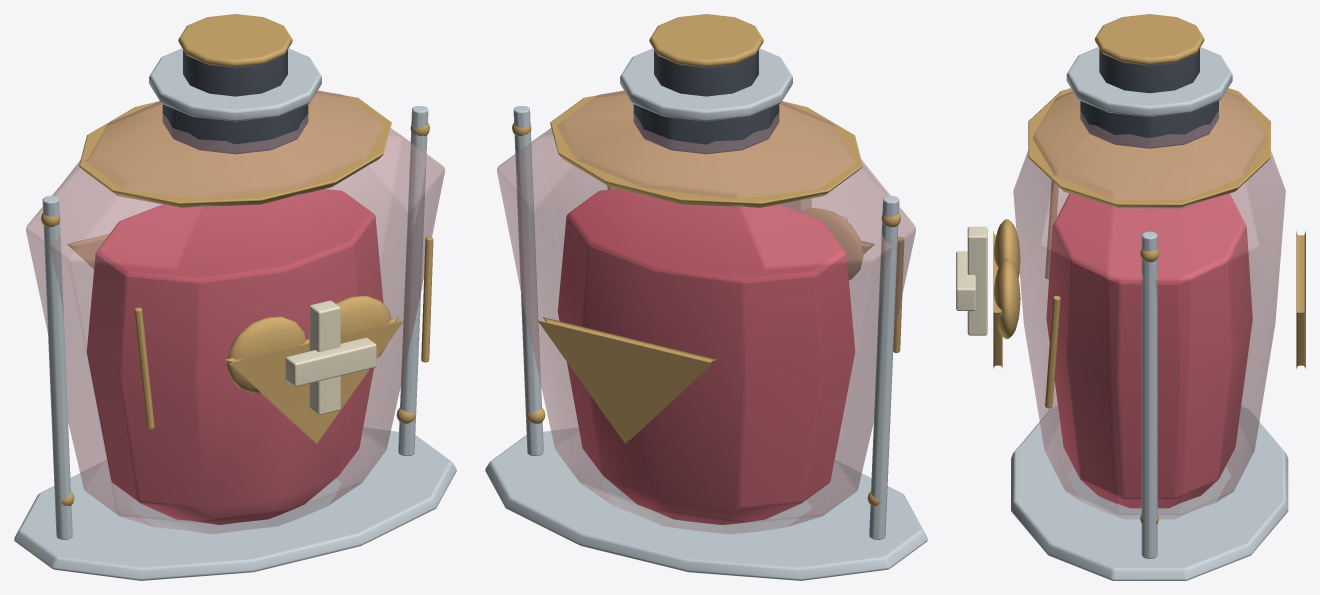
Rendered from SM_Flask_Life.fbx.
3 renders of one model, left to right at view 1: azimuth 30°, elevation 25°; view 2: azimuth 150°, elevation 25°; view 3: azimuth 270°, elevation 25°, orthographic. The views are drawn at different scales.
Parts seen in each view (by area): view 1: glass_CutVessel, liquid_ContainedEssence, metal_BaseRing, gold_ShoulderRim, liquid_Meniscus, metal_MouthLip, metal_CradleRail, metal_CradleRail.001, gold_HeartPoint_Front, gold_CapInset, dark_NeckSleeve, dark_SealedStopper (+7 smaller); view 2: glass_CutVessel, liquid_ContainedEssence, metal_BaseRing, gold_ShoulderRim, liquid_Meniscus, gold_HeartPoint_Back, metal_MouthLip, metal_CradleRail, metal_CradleRail.001, gold_CapInset, dark_NeckSleeve, dark_SealedStopper (+2 smaller); view 3: glass_CutVessel, liquid_ContainedEssence, metal_BaseRing, gold_ShoulderRim, liquid_Meniscus, metal_MouthLip, metal_CradleRail.001, gold_CapInset, dark_NeckSleeve, dark_SealedStopper, ivory_HealingCross, gold_HeartLobe.001 (+6 smaller).
Part boxes in pixels (bbox=[...]): glass_CutVessel: bbox=[26, 91, 444, 533]; liquid_ContainedEssence: bbox=[86, 213, 383, 524]; metal_BaseRing: bbox=[14, 427, 456, 580]; gold_ShoulderRim: bbox=[79, 90, 391, 207]; liquid_Meniscus: bbox=[97, 189, 373, 281]; metal_MouthLip: bbox=[149, 48, 321, 121]; metal_CradleRail: bbox=[42, 195, 72, 539]; metal_CradleRail.001: bbox=[398, 106, 428, 456]; gold_HeartPoint_Front: bbox=[225, 317, 403, 443]; gold_CapInset: bbox=[178, 14, 292, 67]; dark_NeckSleeve: bbox=[162, 104, 308, 154]; dark_SealedStopper: bbox=[183, 50, 287, 96]; glass_CutVessel: bbox=[497, 91, 915, 533]; liquid_ContainedEssence: bbox=[557, 213, 855, 524]; metal_BaseRing: bbox=[485, 427, 927, 580]; gold_ShoulderRim: bbox=[550, 90, 862, 207]; liquid_Meniscus: bbox=[568, 189, 844, 281]; gold_HeartPoint_Back: bbox=[538, 317, 716, 443]; metal_MouthLip: bbox=[620, 48, 792, 121]; metal_CradleRail: bbox=[869, 195, 899, 539]; metal_CradleRail.001: bbox=[513, 106, 543, 456]; gold_CapInset: bbox=[649, 14, 763, 67]; dark_NeckSleeve: bbox=[633, 104, 779, 154]; dark_SealedStopper: bbox=[654, 50, 758, 96]; glass_CutVessel: bbox=[1013, 91, 1285, 518]; liquid_ContainedEssence: bbox=[1046, 225, 1252, 508]; metal_BaseRing: bbox=[1011, 406, 1288, 580]; gold_ShoulderRim: bbox=[1028, 88, 1270, 208]; liquid_Meniscus: bbox=[1053, 193, 1245, 282]; metal_MouthLip: bbox=[1066, 47, 1232, 117]; metal_CradleRail.001: bbox=[1141, 231, 1157, 558]; gold_CapInset: bbox=[1095, 14, 1204, 65]; dark_NeckSleeve: bbox=[1080, 101, 1218, 148]; dark_SealedStopper: bbox=[1099, 48, 1199, 93]; ivory_HealingCross: bbox=[967, 226, 987, 335]; gold_HeartLobe.001: bbox=[994, 259, 1020, 338].
Bounding box in the file's own units: 42.76 × 48.5 × 33.35.
